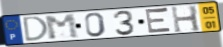0: (84, 12, 107, 38)
3: (113, 9, 137, 37)
D: (22, 15, 50, 43)
E: (144, 7, 174, 35)
H: (170, 4, 203, 34)
M: (43, 13, 82, 41)
